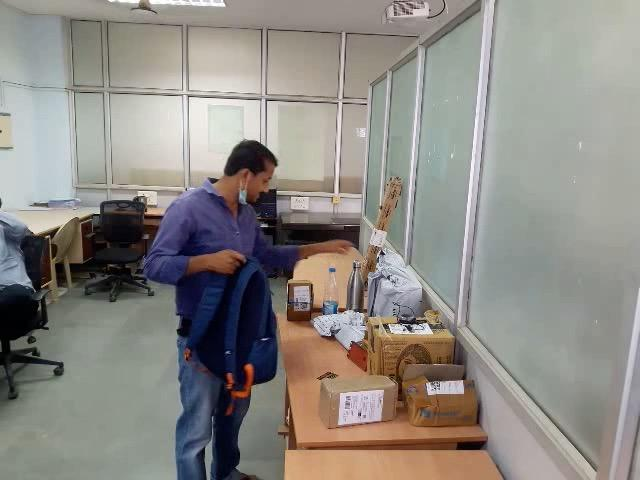shoplifting: (115, 221, 402, 401)
